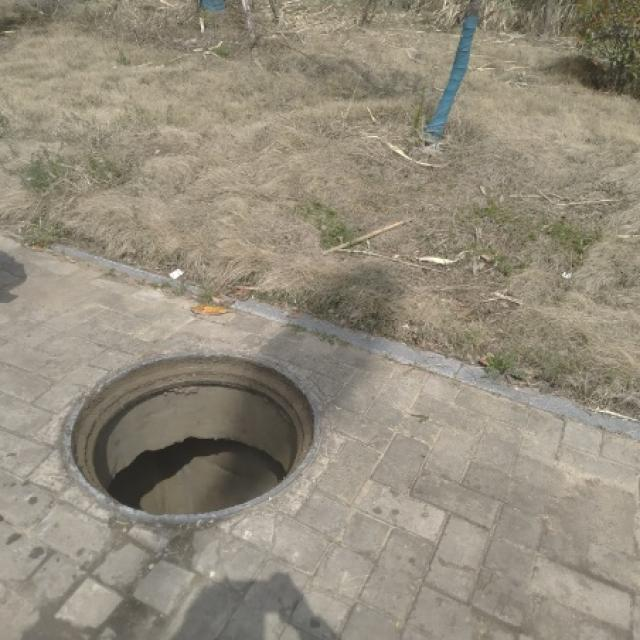Faulty: (61, 348, 335, 534)
